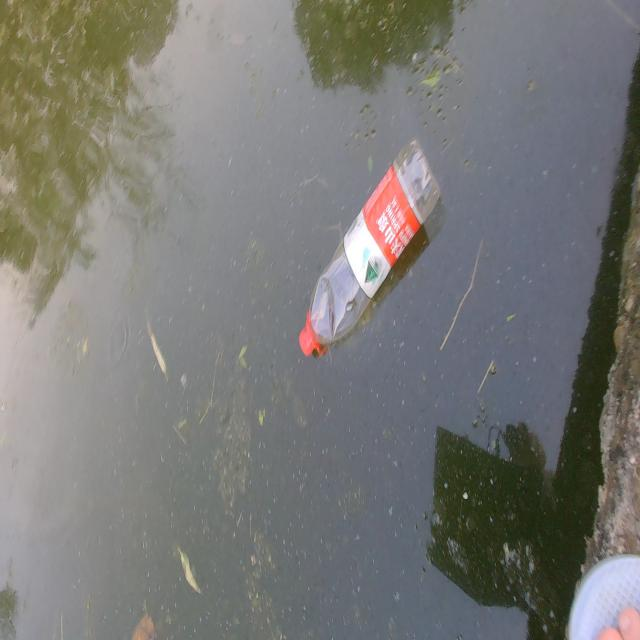Bottle: (297, 134, 443, 361)
